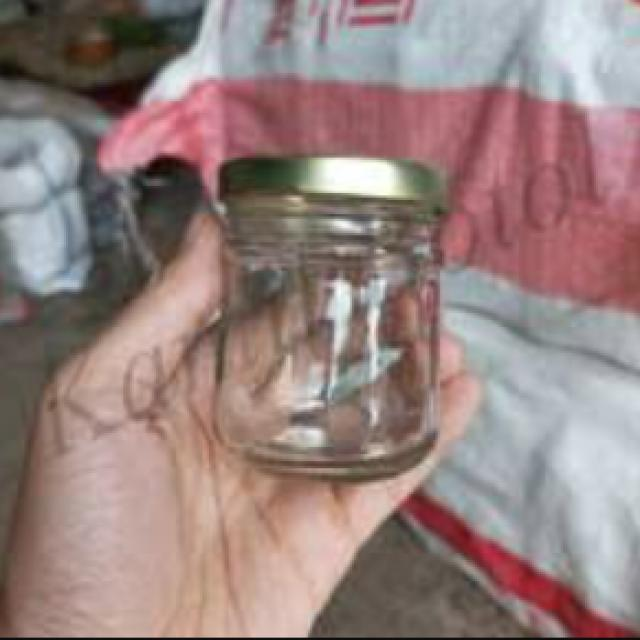ToplesKaca: (207, 150, 451, 482)
